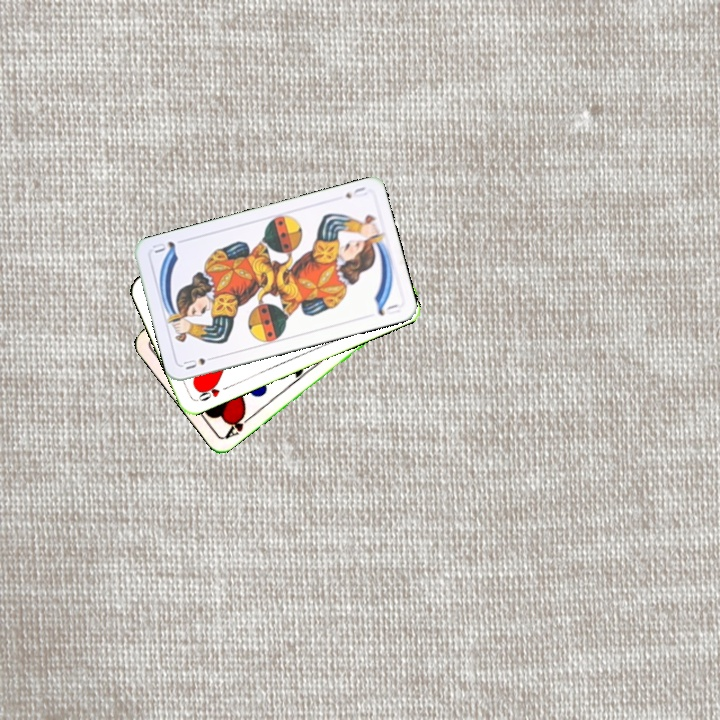HA: (221, 409, 256, 442)
HO: (193, 379, 232, 404)
SU: (179, 352, 219, 372), (341, 183, 370, 201)
